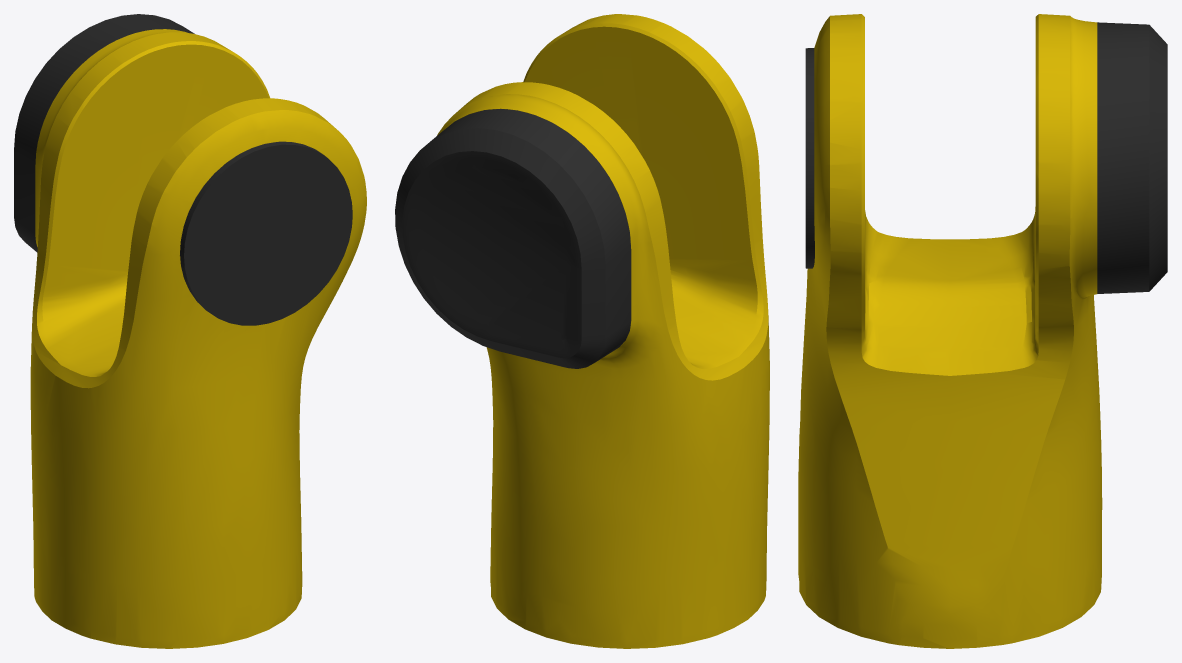
Rendered from elbow_pitch_l_j3_link.glb.
3 renders of one model, left to right at view 1: azimuth 30°, elevation 25°; view 2: azimuth 150°, elevation 25°; view 3: azimuth 270°, elevation 25°, orthographic. The views are drawn at different scales.
Size of the model in its own units: 0.1089 by 0.2015 by 0.1169.
